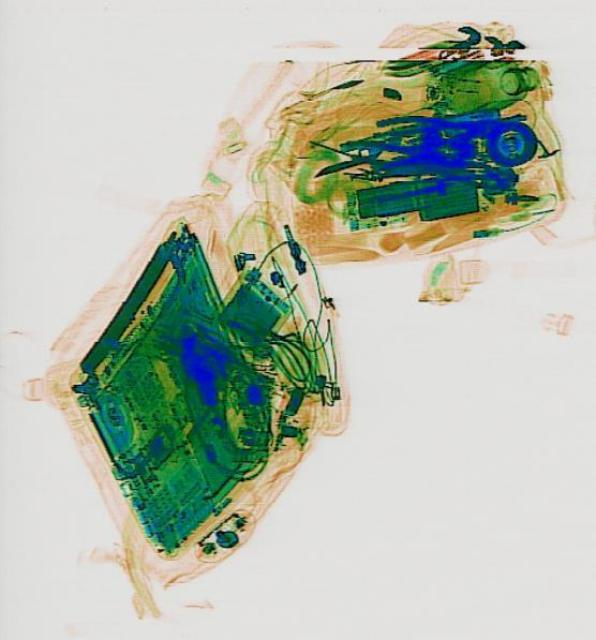Pliers: (367, 110, 456, 138)
